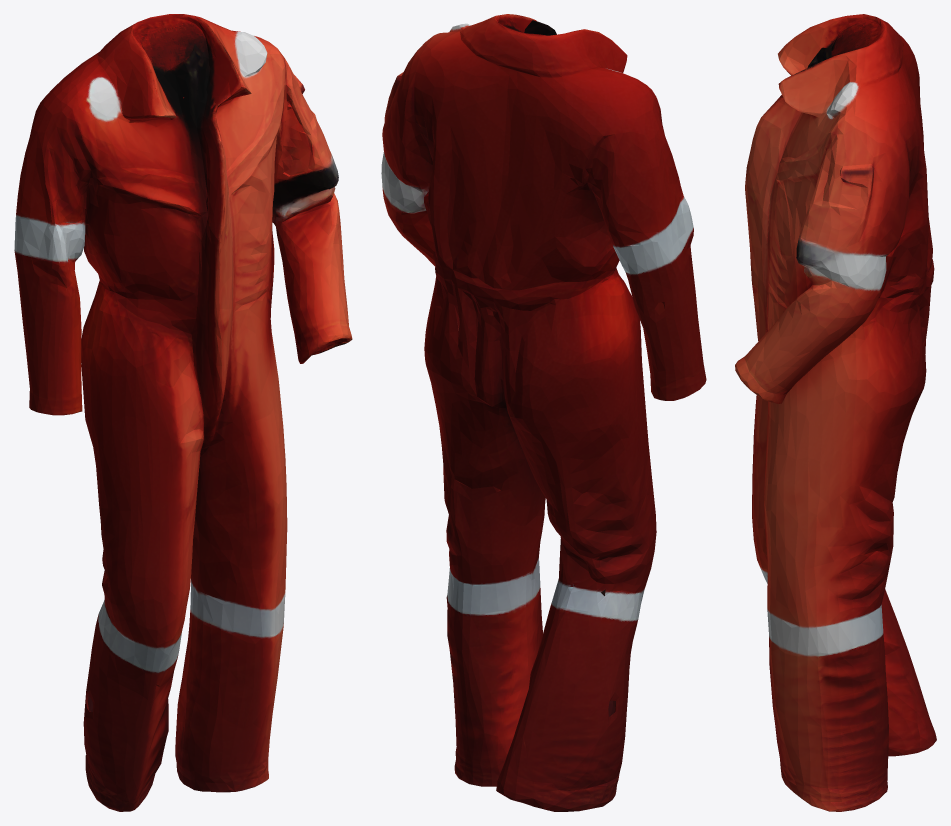
File: coverall.glb
3 renders of one model, left to right at view 1: azimuth 30°, elevation 25°; view 2: azimuth 150°, elevation 25°; view 3: azimuth 270°, elevation 25°, orthographic. The views are drawn at different scales.
Visible parts, largest first — view 1: world; view 2: world; view 3: world.
Part boxes in pixels (bbox=[...]): world: bbox=[14, 14, 352, 811]; world: bbox=[381, 14, 706, 811]; world: bbox=[735, 14, 936, 811].
Size of the model in its own units: 0.4182 by 0.9999 by 0.2459.
1 material, 1 textured.
